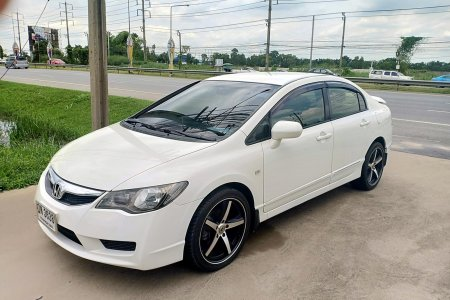sedan: (31, 70, 394, 275)
